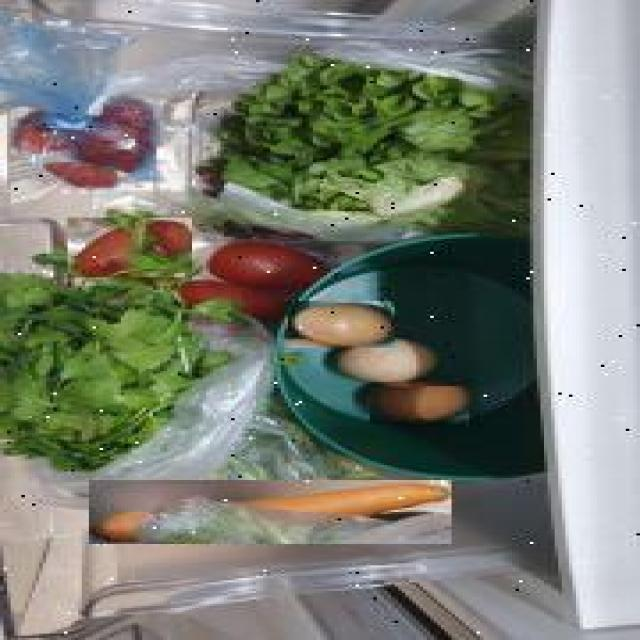carrot: (89, 480, 452, 544)
egg: (289, 301, 396, 348), (340, 337, 432, 382), (370, 388, 470, 426)
salad: (218, 55, 532, 234)
tomato: (68, 218, 192, 278), (206, 239, 327, 288), (183, 282, 290, 331)
